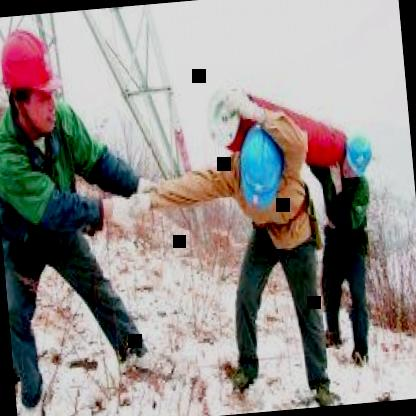helmet: (0, 15, 67, 145), (240, 120, 292, 208), (342, 126, 378, 182)
